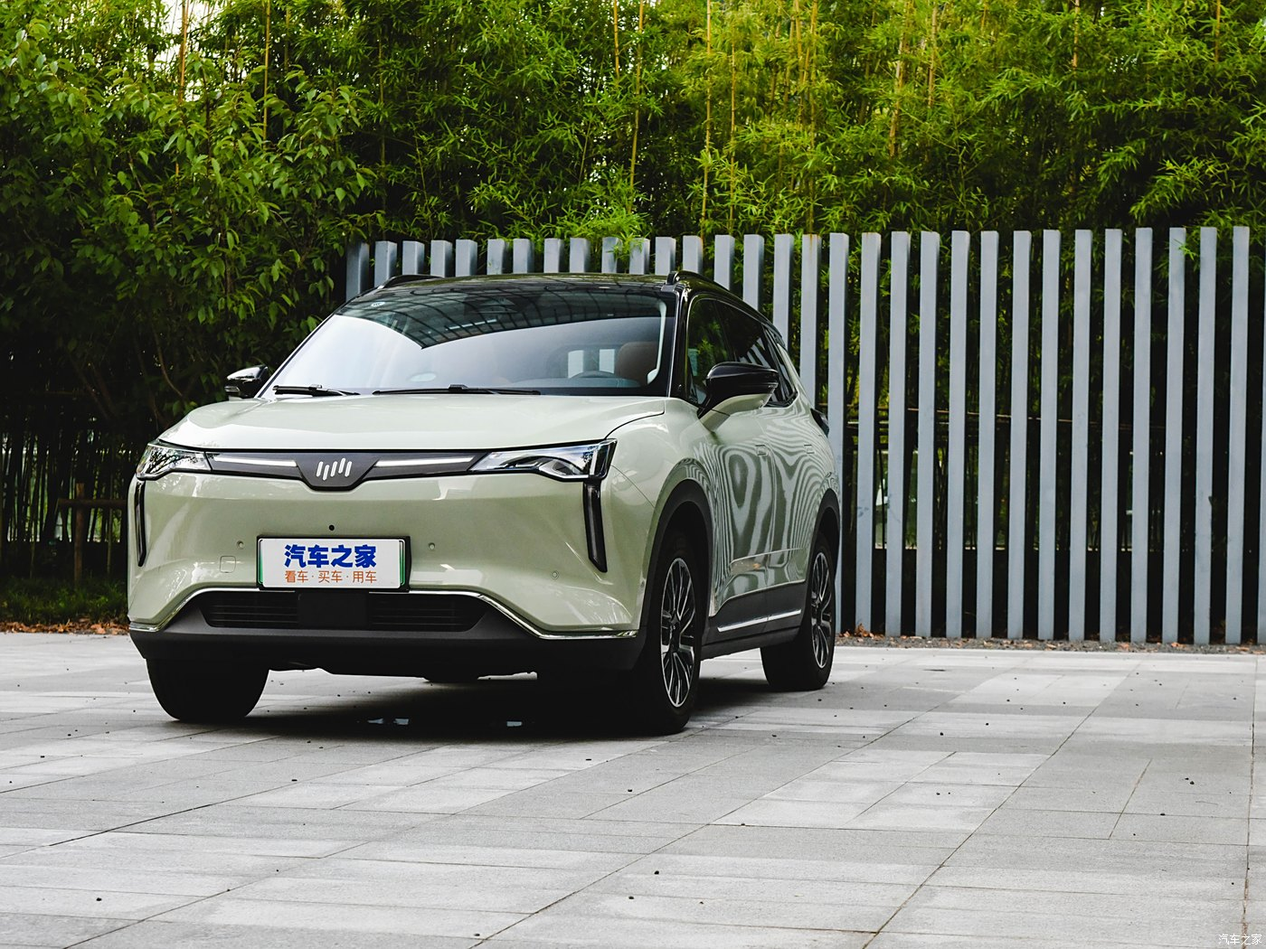WELTMEISTER: (316, 458, 351, 479)
